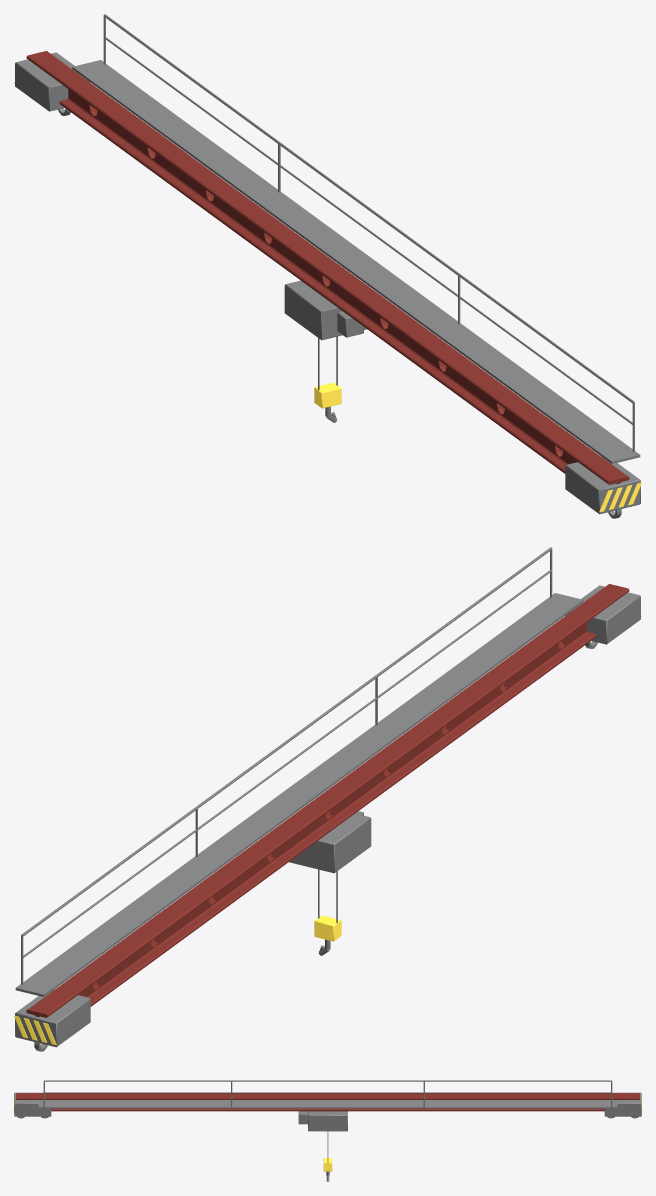
Rendered from prop_crane.glb.
3 renders of one model, top to bottom at view 1: azimuth 30°, elevation 25°; view 2: azimuth 150°, elevation 25°; view 3: azimuth 270°, elevation 25°, orthographic. The views are drawn at different scales.
Visible parts, largest first — view 1: prop_crane; view 2: prop_crane; view 3: prop_crane.
Boxes of the visible parts, box(x1,y1,x2,y2) form: prop_crane: box(14, 14, 641, 518); prop_crane: box(14, 547, 641, 1051); prop_crane: box(14, 1080, 641, 1181).
Size of what is drawn, in the model's own units: 1.48 by 4.3 by 22.13.
